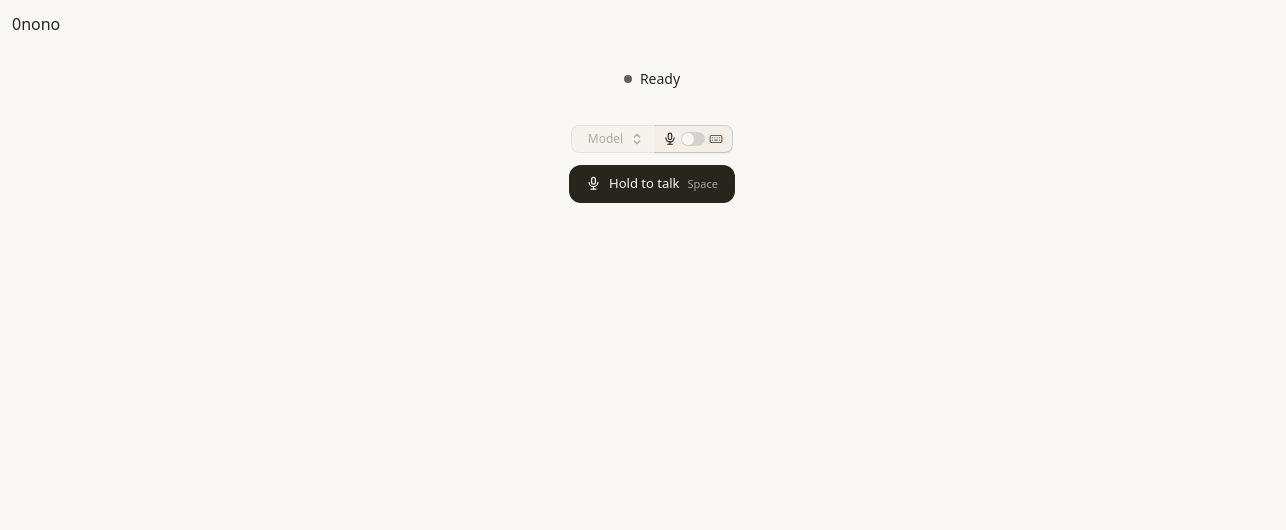
it: useTutorConversation › repair loop › skipRepair records a skipped outcome without requiring a retry turn
Press Space
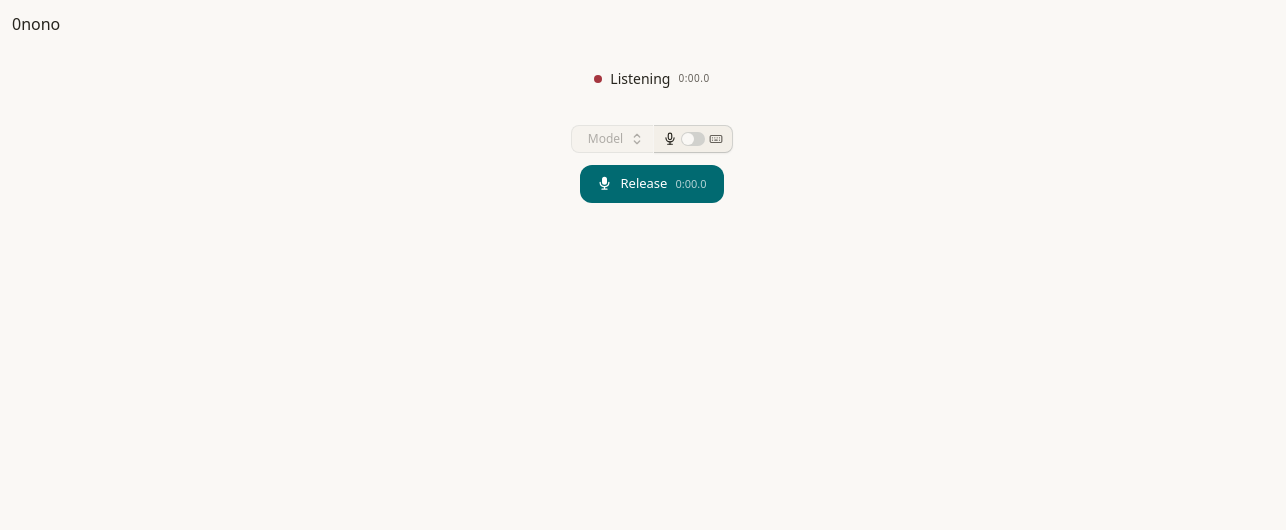
Expected: the text "Listening" is shown, top-left (610, 68), bottom-right (670, 89)
Press Space
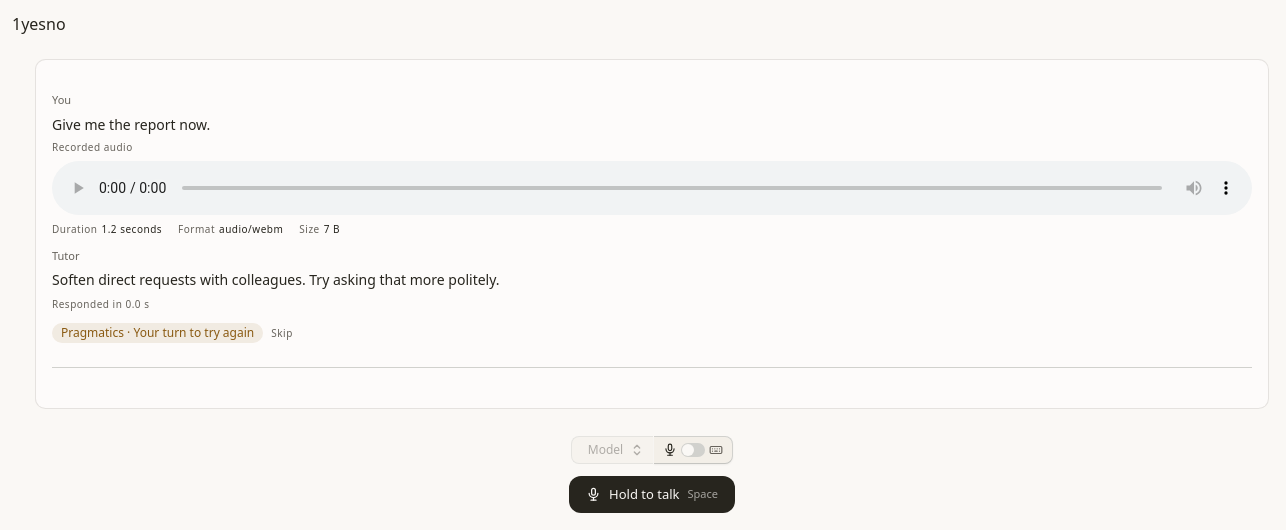
Click the button "Skip". click: (282, 333)
box: top-left (271, 327), bottom-right (293, 339)
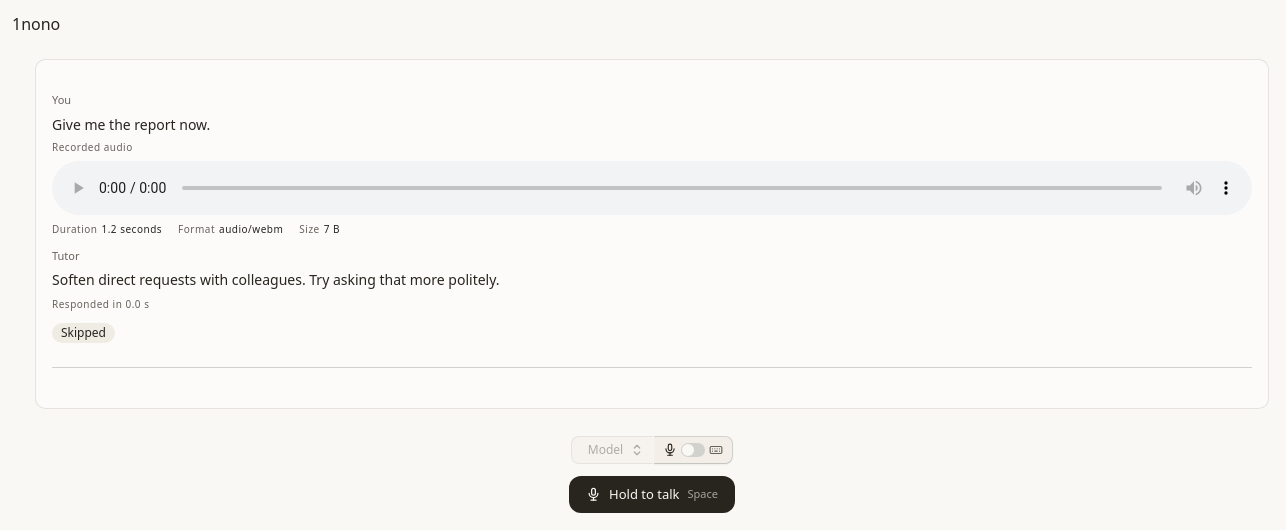
Expected: the text "Skipped" is shown, top-left (52, 323), bottom-right (115, 343)
